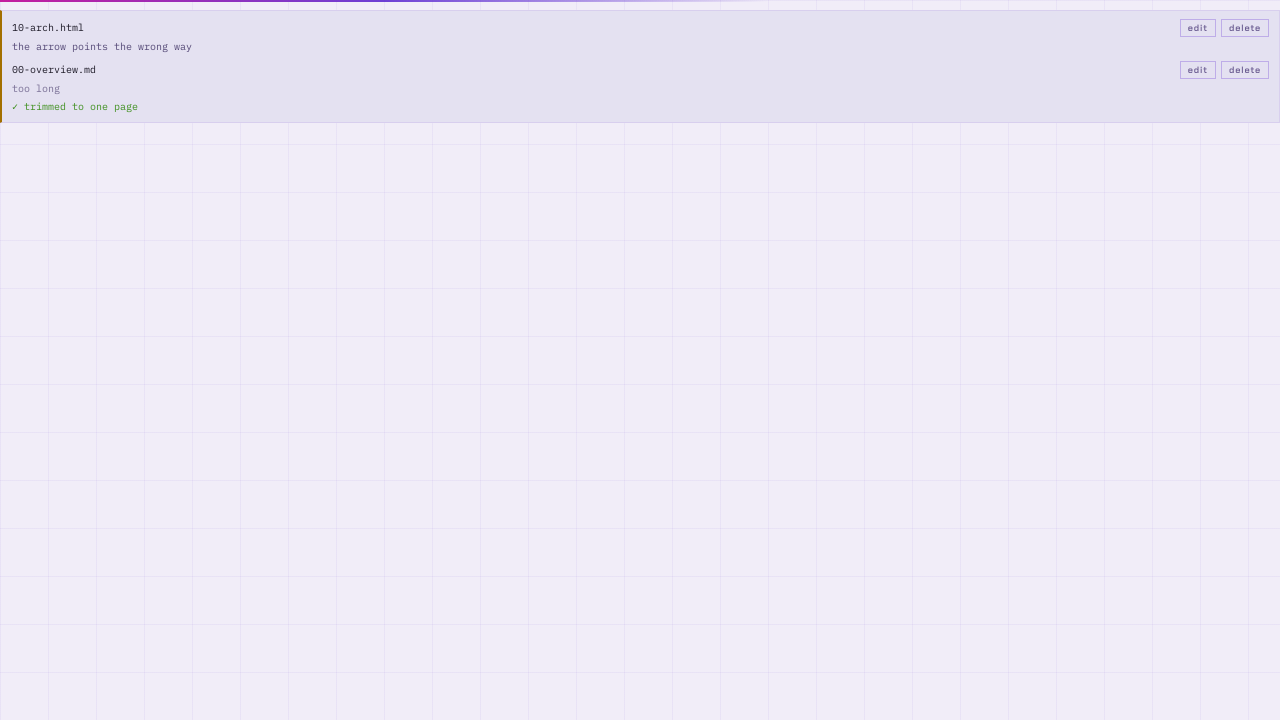
Test: FeedbackPanel › refuses an empty note without posting
Click the button with class "fb-edit" in the row of "10-arch.html" at {"x": 1198, "y": 28}, box x1=1180 y1=19 x2=1216 y2=37
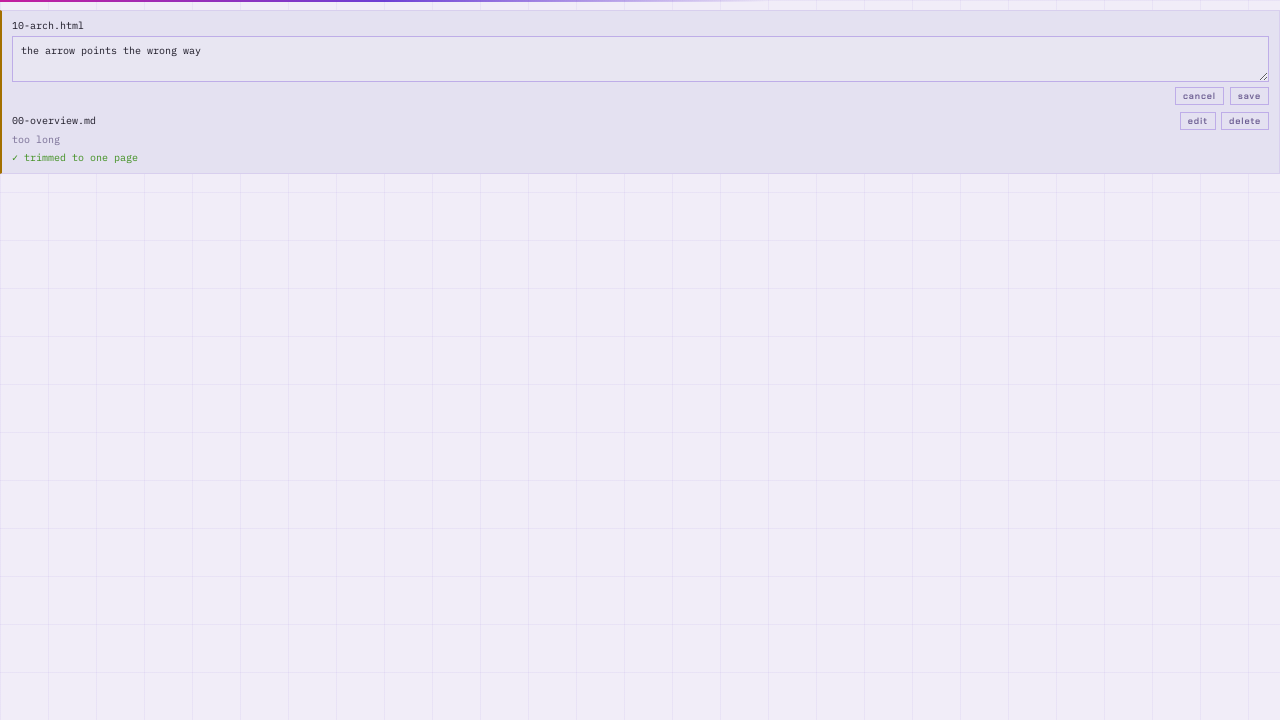
Clear the text box with class "fb-edit-input" at {"x": 640, "y": 59}, box x1=12 y1=36 x2=1269 y2=82
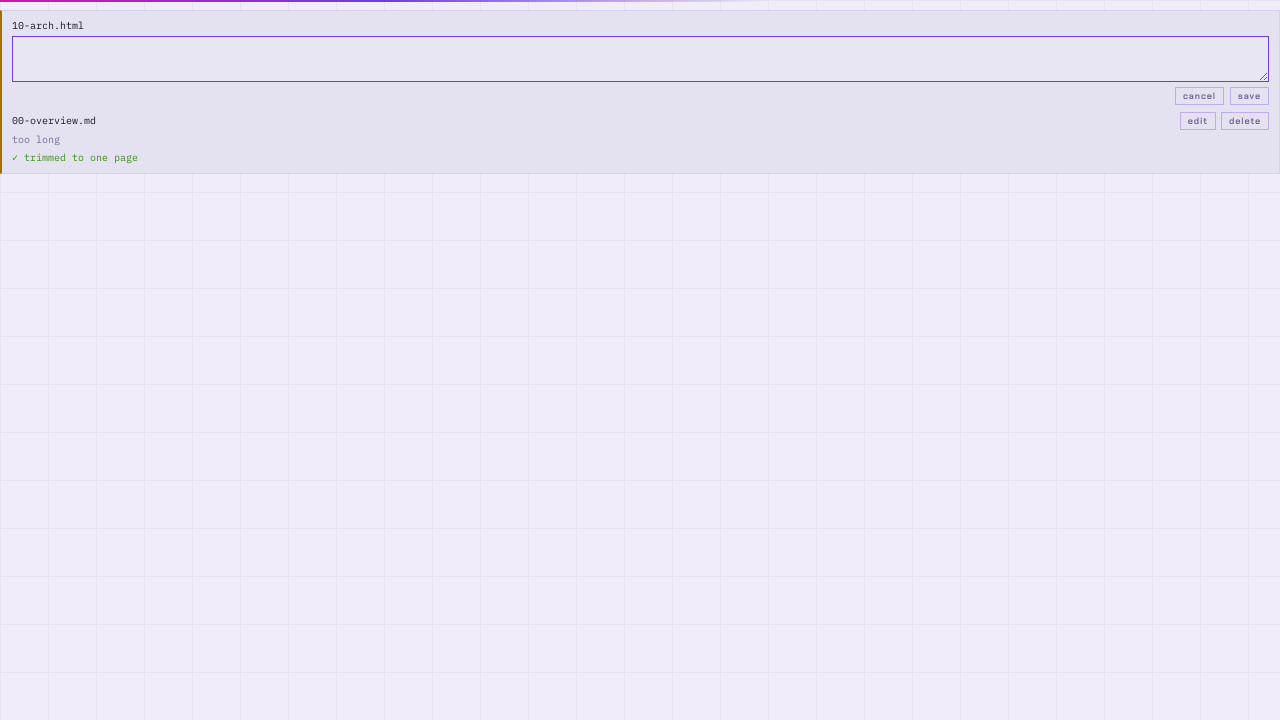
Click the button with class "fb-save" at {"x": 1250, "y": 96}, box x1=1230 y1=87 x2=1269 y2=105
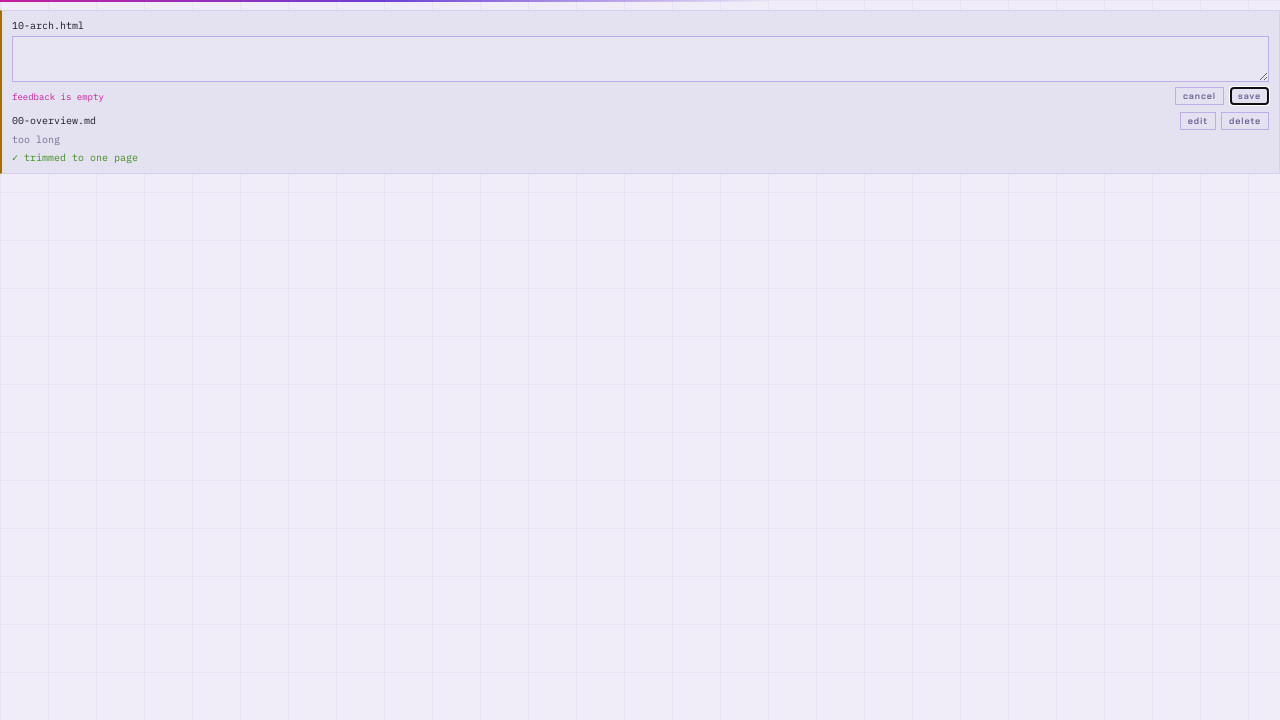
Expected: the text with class "fb-edit-note" reads "feedback is empty", x1=12 y1=90 x2=104 y2=102
